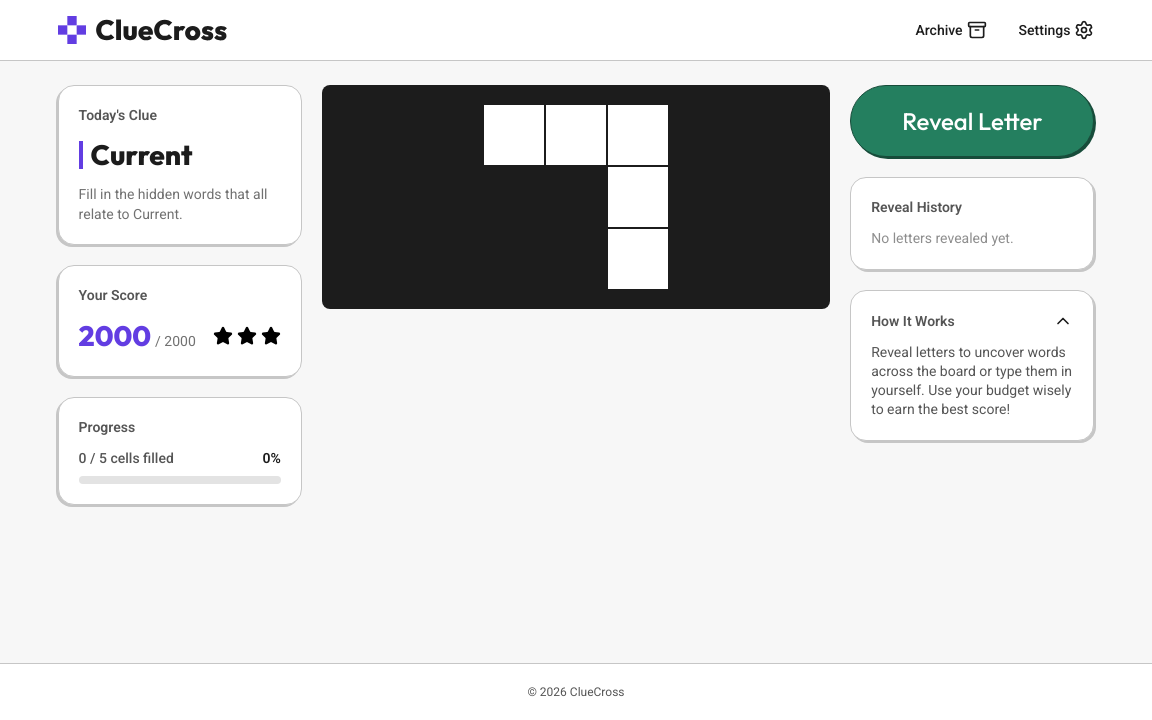
Test: current-puzzle semantics › follows the server’s current puzzle even when it is tomorrow by the browser clock
This screenshot has width=1152, height=720.
expect the heading "Today's Clue Current" is shown: met, box [79,106,281,169]
Click the button "Archive" at [951, 30], box [916,20,987,40]
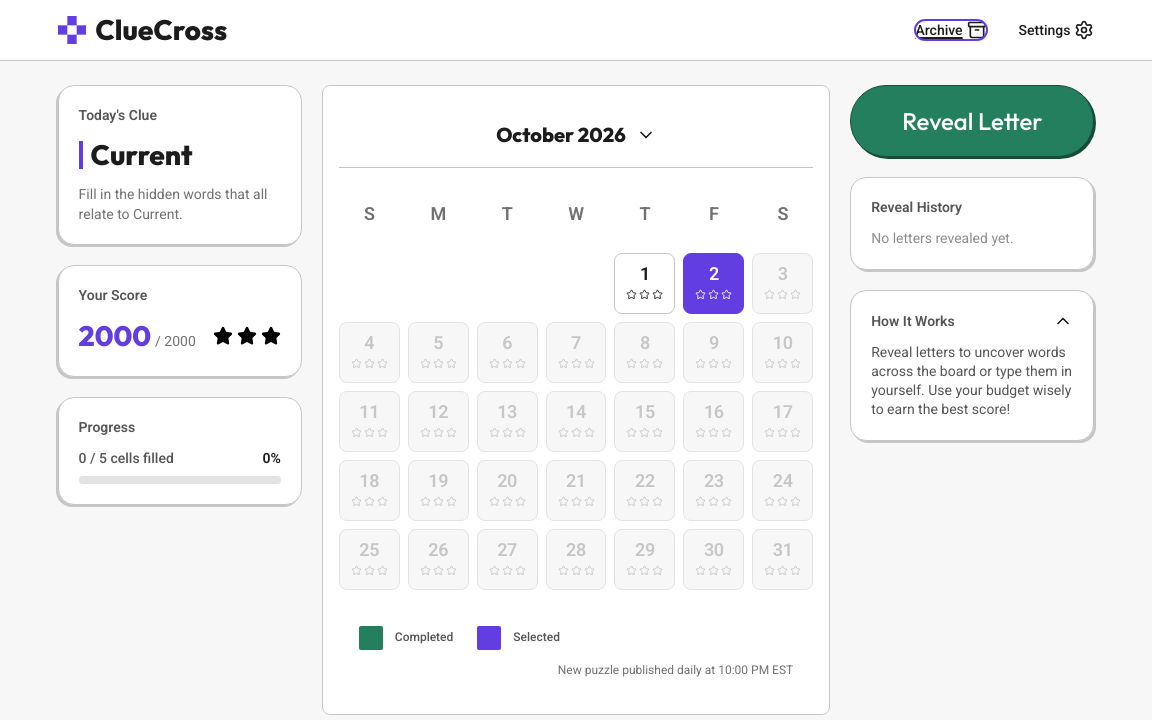
expect the button named "october 2, 2026 (currently viewing)" is shown: met, box [683,253,744,314]
expect the button named "october 3, 2026, puzzle not yet available" is shown: met, box [752,253,813,314]
